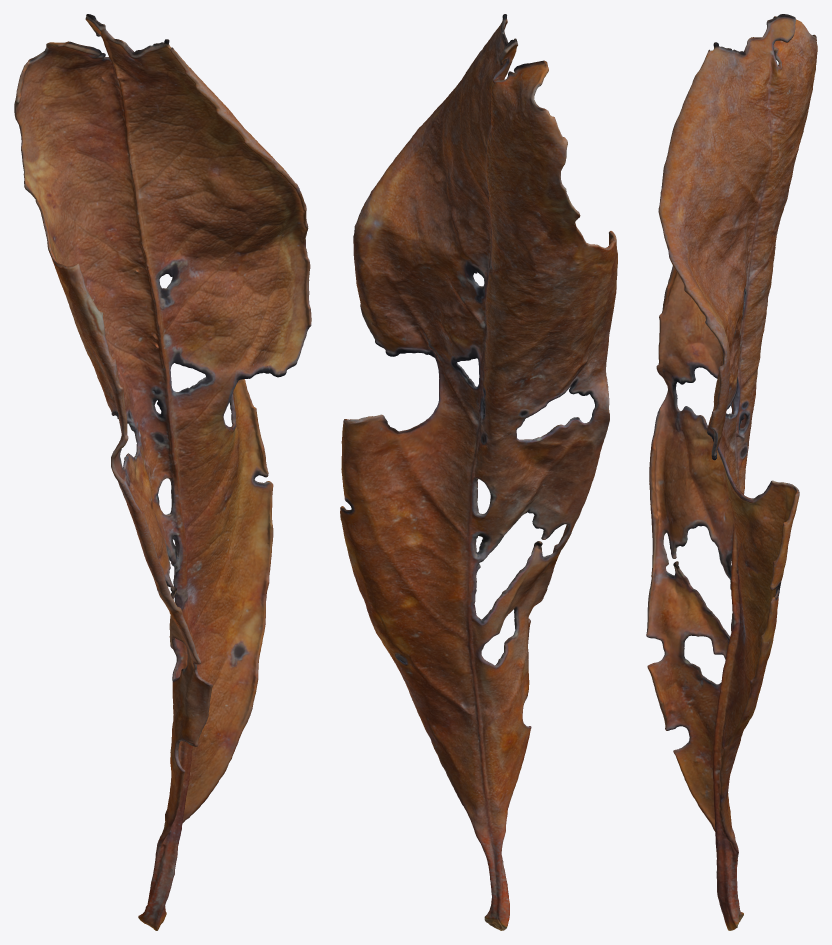
Rendered from la_nau.glb.
The picture shows the model from 3 angles, left to right: view 1: azimuth 30°, elevation 25°; view 2: azimuth 150°, elevation 25°; view 3: azimuth 270°, elevation 25°; orthographic projection. The views are drawn at different scales.
Parts seen in each view (by area): view 1: Object_2, Object_3; view 2: Object_2, Object_3; view 3: Object_2, Object_3.
Boxes of the visible parts, x1,y1,x2,y2 form: Object_2: (16, 30, 311, 930); Object_3: (14, 14, 311, 920); Object_2: (341, 14, 617, 930); Object_3: (340, 14, 617, 930); Object_2: (646, 27, 811, 930); Object_3: (646, 14, 817, 928).
Bounding box in the file's own units: 1.39 × 4.73 × 0.8183.
1 material, 1 textured.
